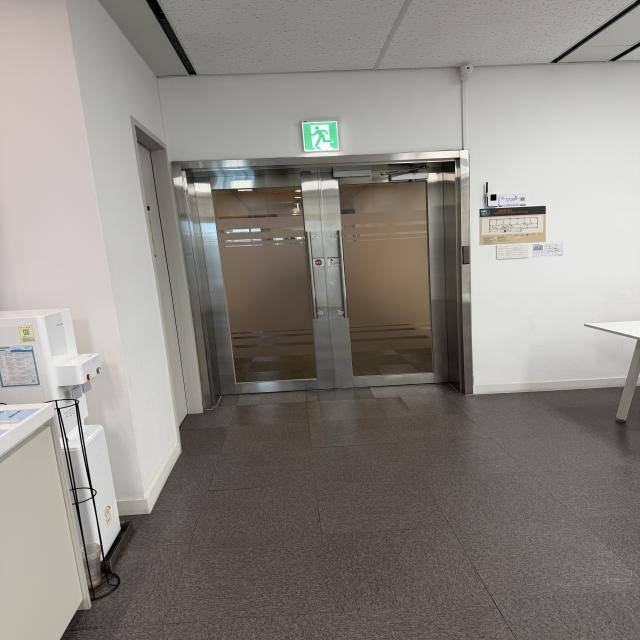rear_door: (176, 156, 461, 394)
